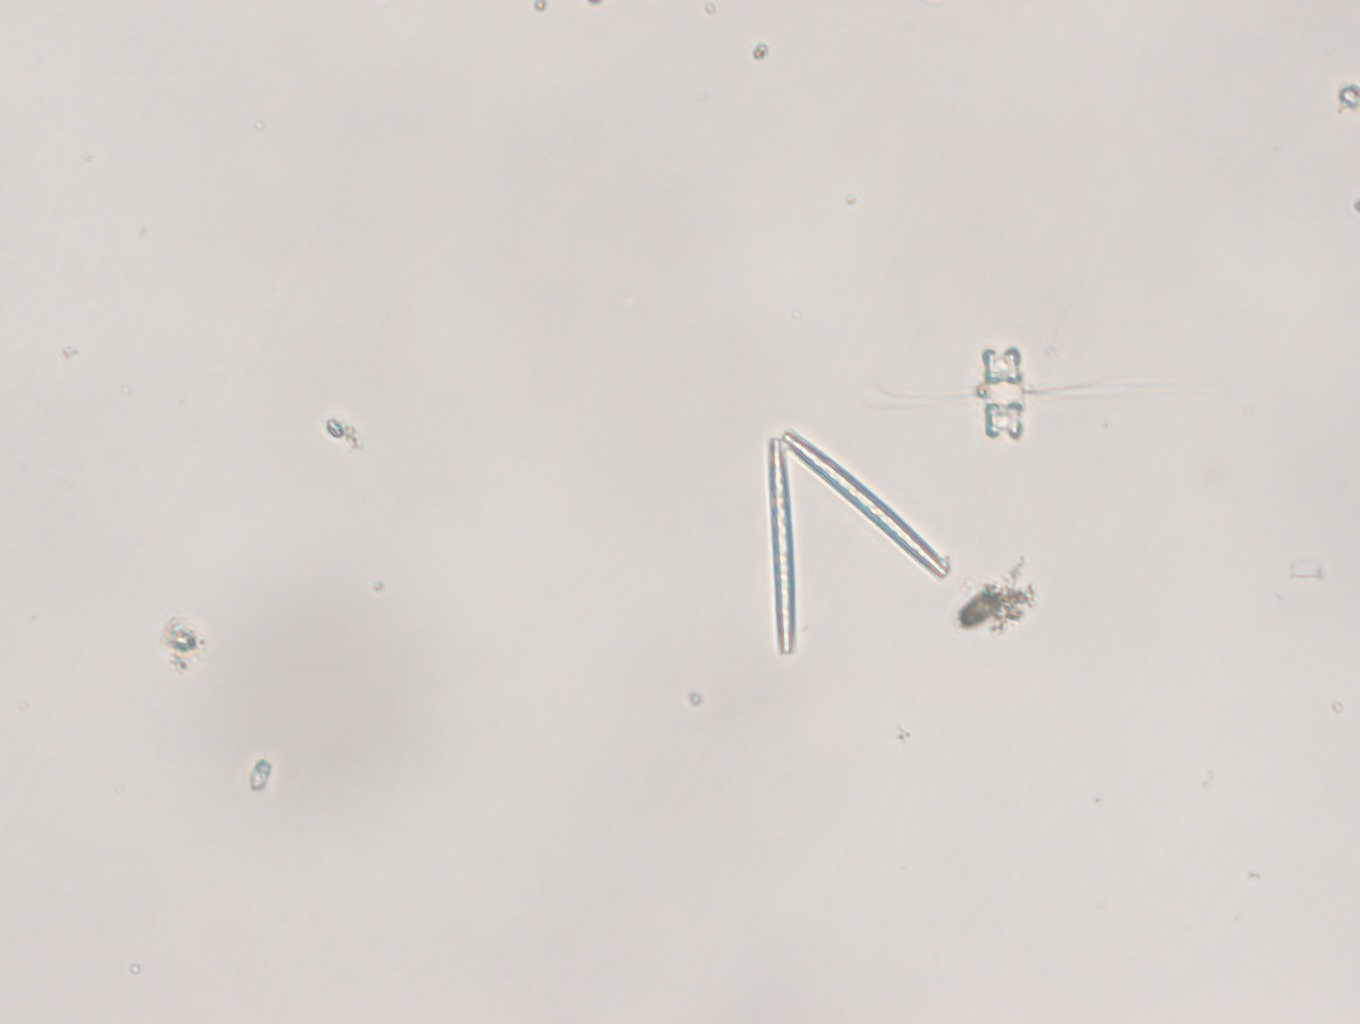thalassionema frauenfeldii: (757, 428, 956, 662)
